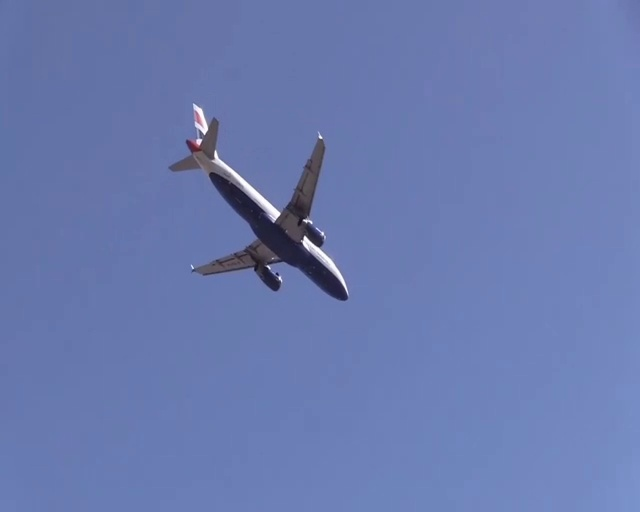AIRPLANE: (169, 105, 352, 302)
